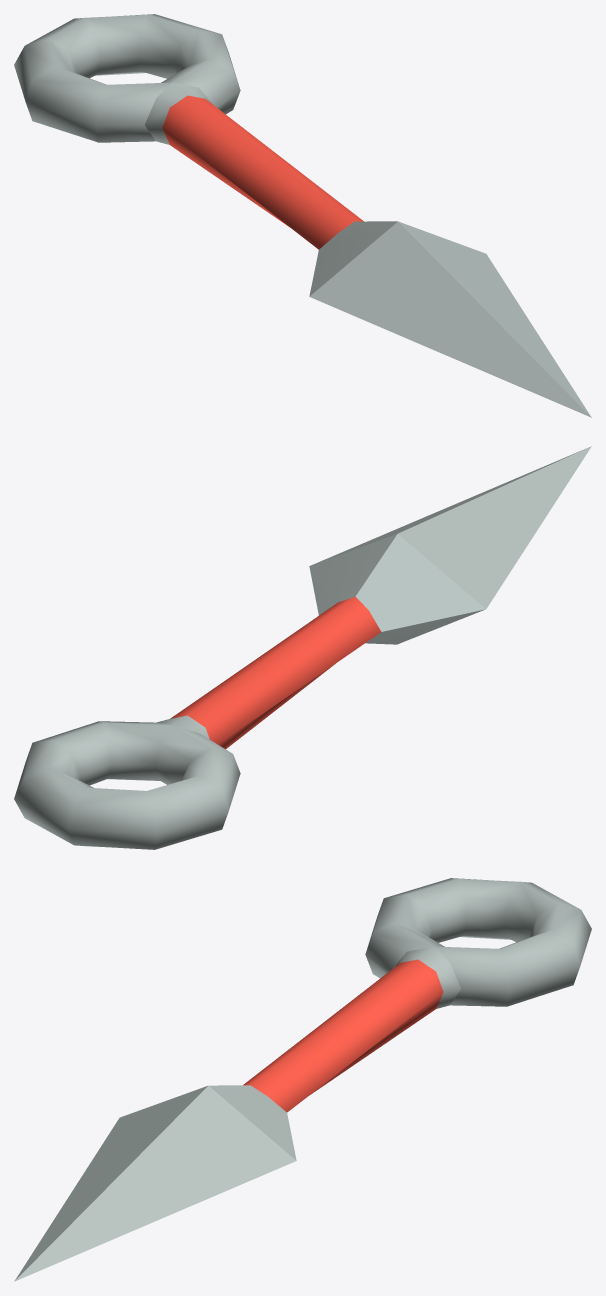
Rendered from Shuriken 3.fbx.
3 renders of one model, top to bottom at view 1: azimuth 30°, elevation 25°; view 2: azimuth 150°, elevation 25°; view 3: azimuth 330°, elevation 25°, orthographic.
Visible parts, largest first — view 1: Shuriken 3; view 2: Shuriken 3; view 3: Shuriken 3.
Part boxes in pixels (x1,y1,x2,y2): Shuriken 3: (14,14,591,417); Shuriken 3: (14,446,591,849); Shuriken 3: (14,878,591,1281).
Bounding box in the file's own units: 0.1286 × 0.0664 × 0.5736.
